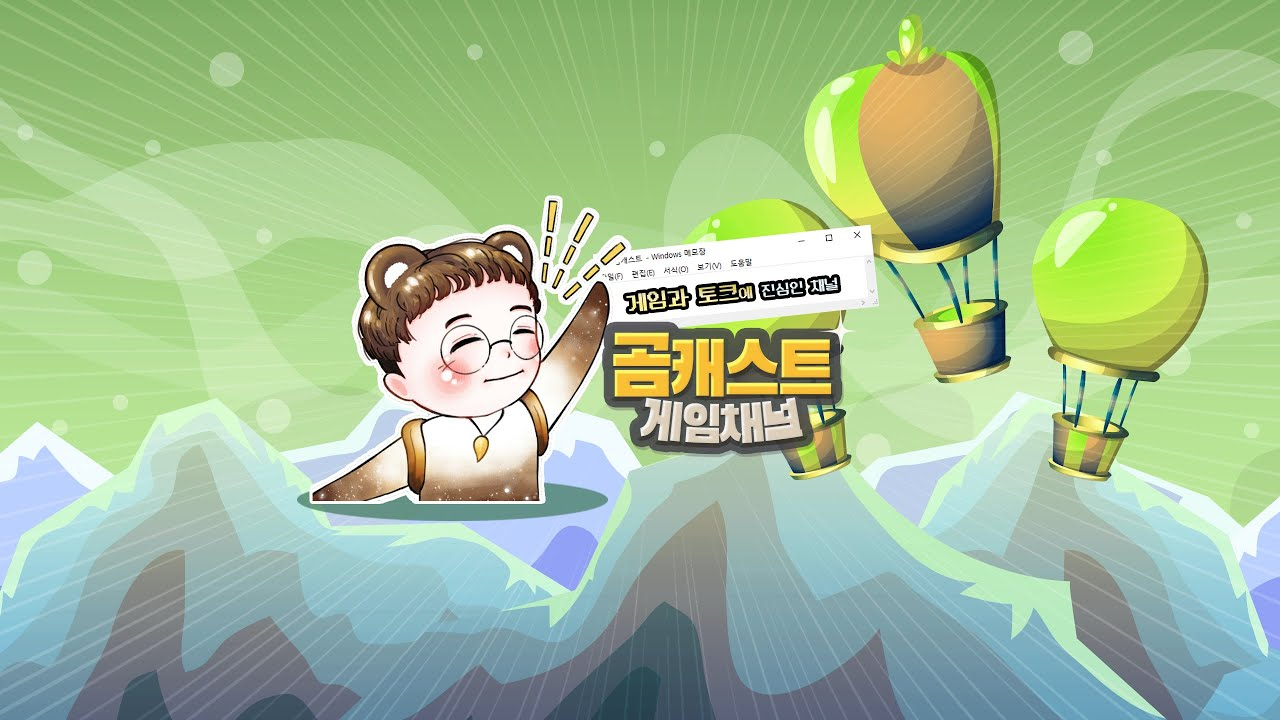게임과: (622, 280, 692, 314)
게임채널: (632, 394, 813, 454)
곰캐스트: (603, 320, 842, 405)
진심인: (758, 277, 805, 301)
채널: (808, 274, 841, 295)
토크에: (695, 280, 756, 308)
